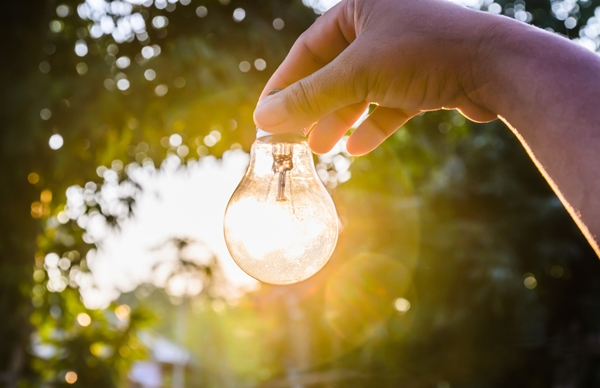Light_bulb: (222, 101, 349, 292)
